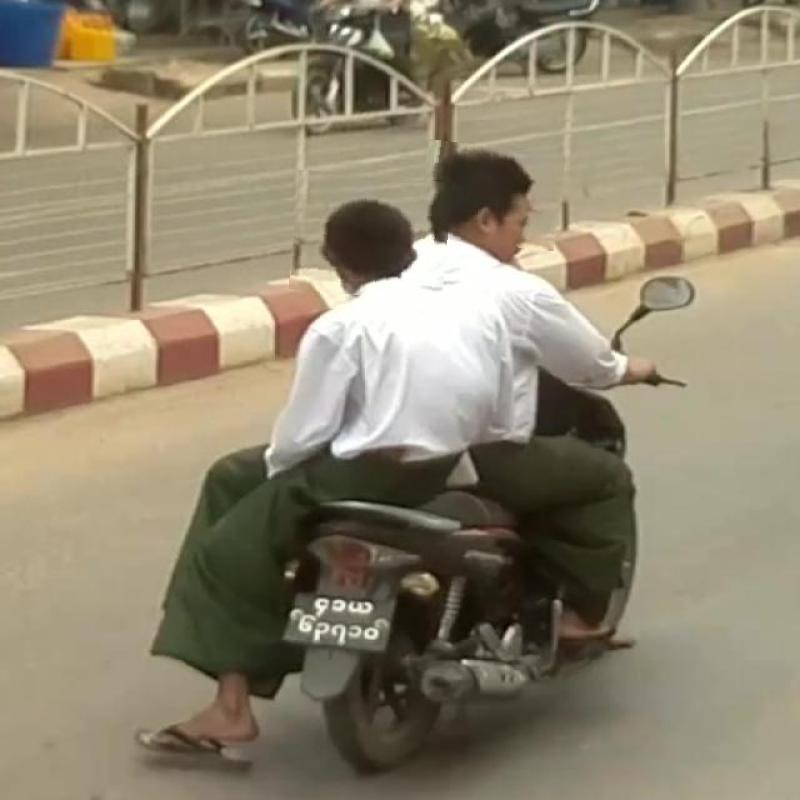nohelmet: (291, 173, 450, 299), (422, 143, 562, 248)
